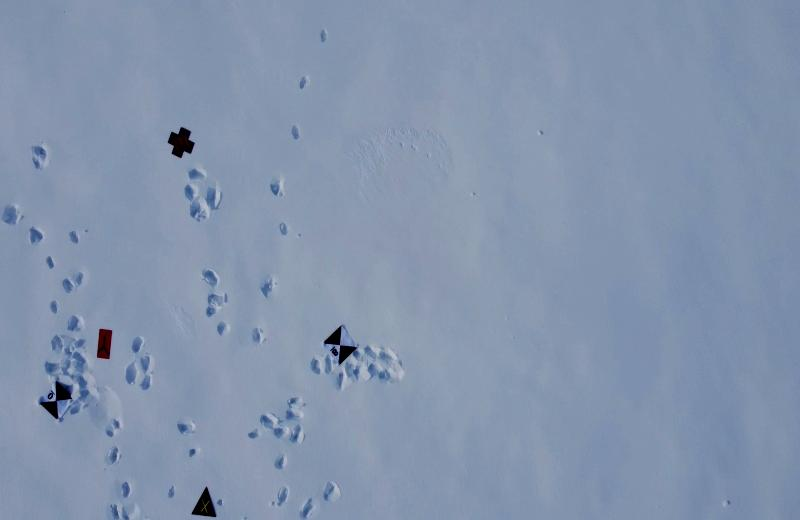Cross: (166, 125, 196, 159)
Rectangle: (94, 324, 115, 363)
Triangle: (187, 481, 221, 519)
